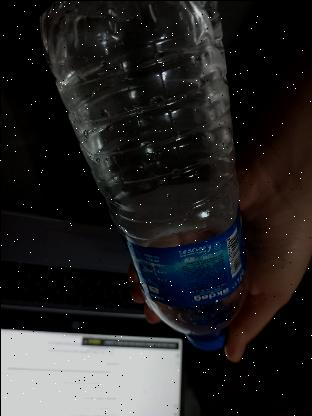Plastic Bottle: (43, 0, 247, 350)
